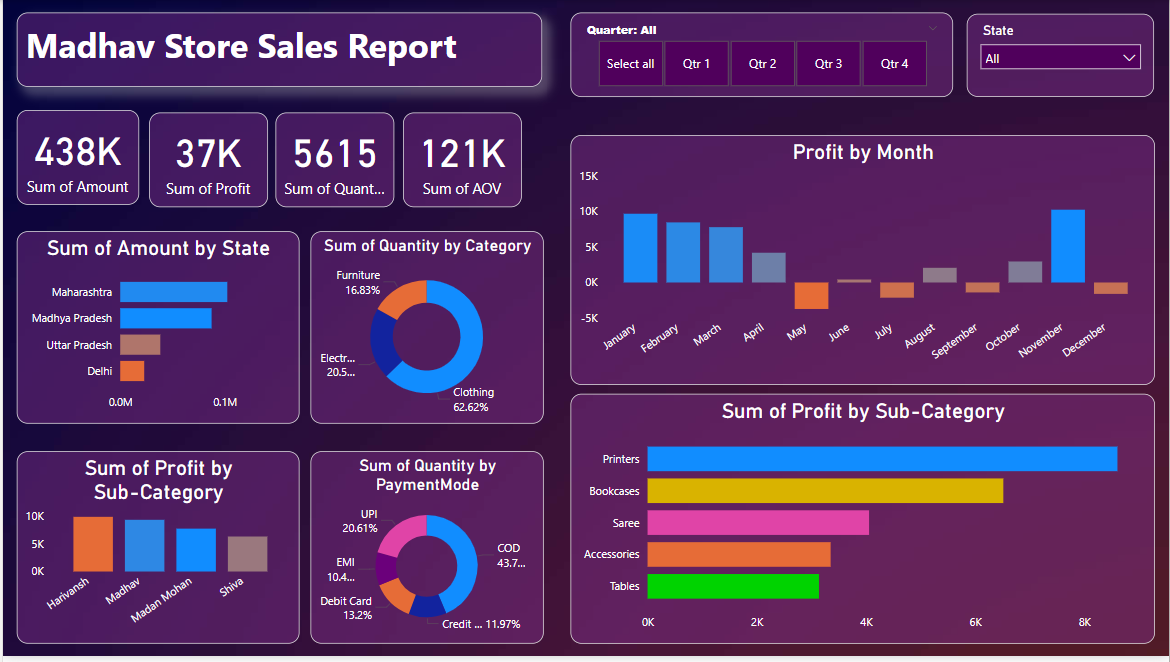

What the dashboard file says about the page in this screenshot:
{"tool":"powerbi","page":{"name":"Page 1","canvas":[1280,720],"ordinal":0},"visuals":[{"type":"textbox","box":[15.7,14.3,577.1,81.4],"z":0},{"type":"columnChart","title":"Profit by Month","fields":{"Y":["Details.Profit"],"Category":["Orders.Order Date.Variation.Date Hierarchy.Month"]},"box":[622.9,148.6,641.4,274.3],"z":1000},{"type":"clusteredBarChart","title":"Sum of Profit by Sub-Category","fields":{"Y":["Details.Profit"],"Category":["Details.Sub-Category"]},"box":[622.9,432.9,641.4,274.3],"z":2000},{"type":"card","fields":{"Values":["Details.Amount"]},"box":[15.7,121.4,134.3,104.3],"z":3000},{"type":"card","fields":{"Values":["Details.Profit"]},"box":[160,122.9,130,104.3],"z":4000},{"type":"card","fields":{"Values":["Details.Quantity"]},"box":[298.6,122.9,130,104.3],"z":5000},{"type":"donutChart","fields":{"Y":["Details.Quantity"],"Series":["Details.Category"]},"box":[337.1,254.3,255.7,211.4],"z":6000},{"type":"donutChart","fields":{"Y":["Details.Quantity"],"Series":["Details.PaymentMode"]},"box":[337.1,495.7,255.7,211.4],"z":7000},{"type":"card","fields":{"Values":["Details.AOV"]},"box":[438.6,122.9,130,104.3],"z":8000},{"type":"clusteredBarChart","title":"Sum of Amount by State","fields":{"Y":["Details.Amount"],"Category":["Orders.State"]},"box":[15.7,254.3,310,211.4],"z":9000},{"type":"clusteredColumnChart","title":"Sum of Profit by Sub-Category","fields":{"Category":["Orders.CustomerName"],"Y":["Details.Amount"]},"box":[15.7,495.7,310,211.4],"z":10000},{"type":"slicer","fields":{"Values":["Orders.Order Date.Variation.Date Hierarchy.Quarter"]},"box":[622.9,14.3,420,92.9],"z":11000},{"type":"slicer","fields":{"Values":["Orders.State"]},"box":[1058.6,15.7,205.7,91.4],"z":11001}]}

Visuals, with their boxes in screenshot pixels (x1, y1, x2, y2), scaled from the page's 1280x720 canvas onto the 1170x662 screenshot:
textbox: box=[14, 13, 542, 88]
"Profit by Month" columnChart: box=[569, 137, 1156, 389]
"Sum of Profit by Sub-Category" clusteredBarChart: box=[569, 398, 1156, 650]
card - Details.Amount: box=[14, 112, 137, 208]
card - Details.Profit: box=[146, 113, 265, 209]
card - Details.Quantity: box=[273, 113, 392, 209]
donutChart - Details.Quantity x Details.Category: box=[308, 234, 542, 428]
donutChart - Details.Quantity x Details.PaymentMode: box=[308, 456, 542, 650]
card - Details.AOV: box=[401, 113, 520, 209]
"Sum of Amount by State" clusteredBarChart: box=[14, 234, 298, 428]
"Sum of Profit by Sub-Category" clusteredColumnChart: box=[14, 456, 298, 650]
slicer - Orders.Order Date.Variation.Date Hierarchy.Quarter: box=[569, 13, 953, 99]
slicer - Orders.State: box=[968, 14, 1156, 98]
